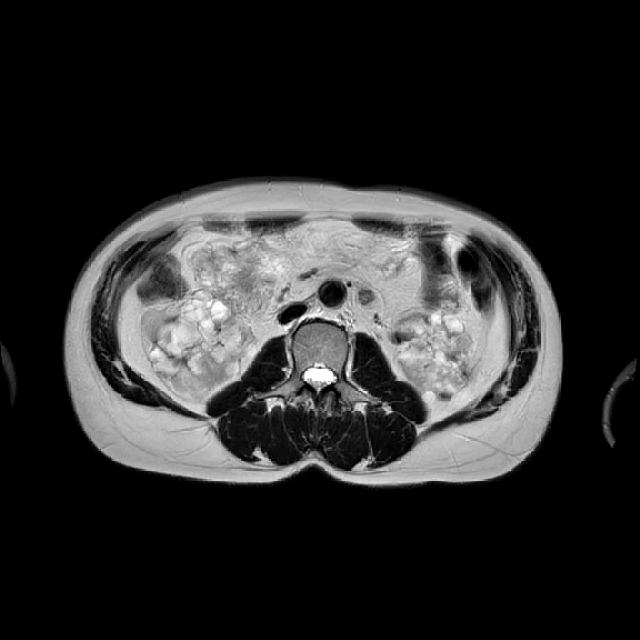sag: (144, 291, 258, 391)
sol: (395, 313, 473, 407)
